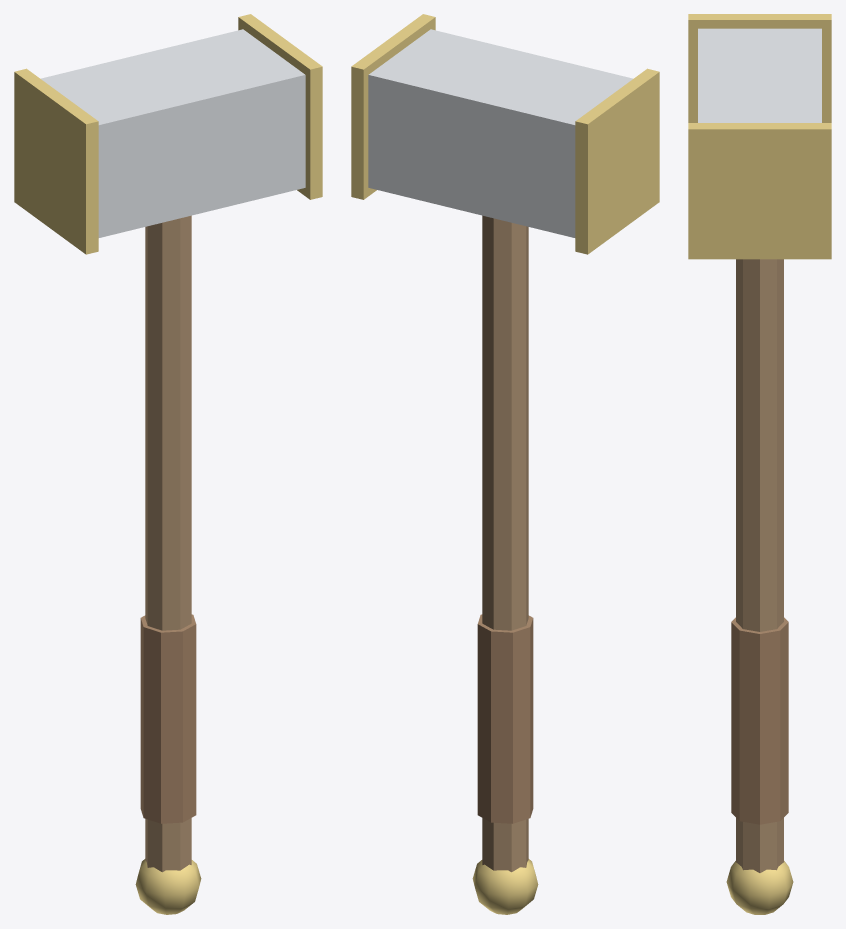
File: Hammer.gltf
The picture shows the model from 3 angles, left to right: view 1: azimuth 30°, elevation 25°; view 2: azimuth 150°, elevation 25°; view 3: azimuth 270°, elevation 25°; orthographic projection.
Parts seen in each view (by area): view 1: Hammer; view 2: Hammer; view 3: Hammer.
Part boxes in pixels (<box>): Hammer: <box>14,14,322,914</box>; Hammer: <box>351,14,659,914</box>; Hammer: <box>688,14,831,914</box>.
Size of the model in its own units: 0.285 by 0.97 by 0.15.
